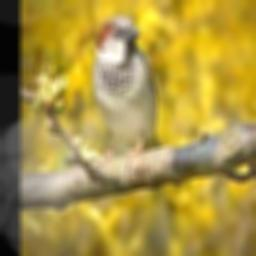Sparrow: (92, 14, 163, 159)
